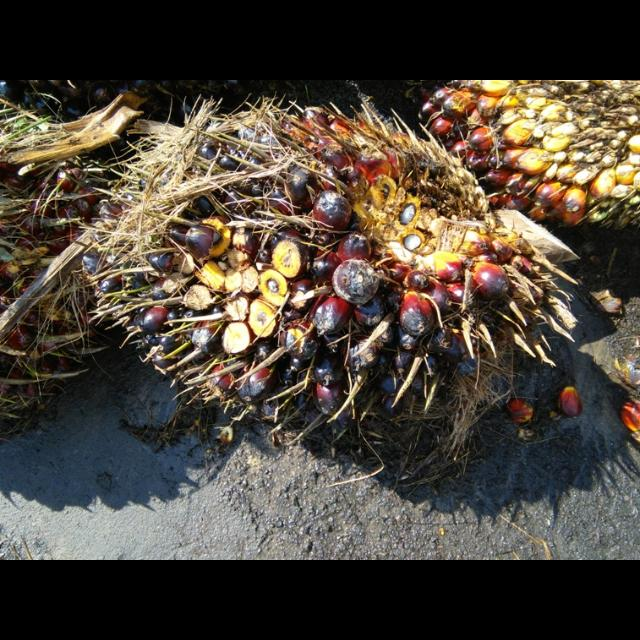Unripe: (82, 104, 571, 425), (0, 91, 189, 440), (422, 80, 639, 227)
